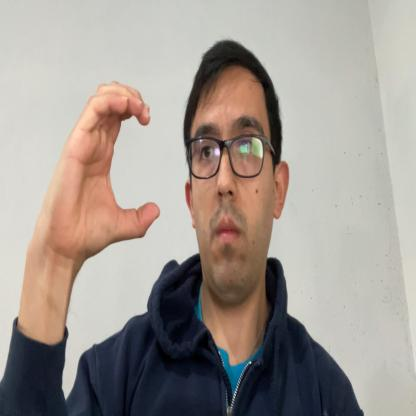C: (68, 79, 160, 258)
